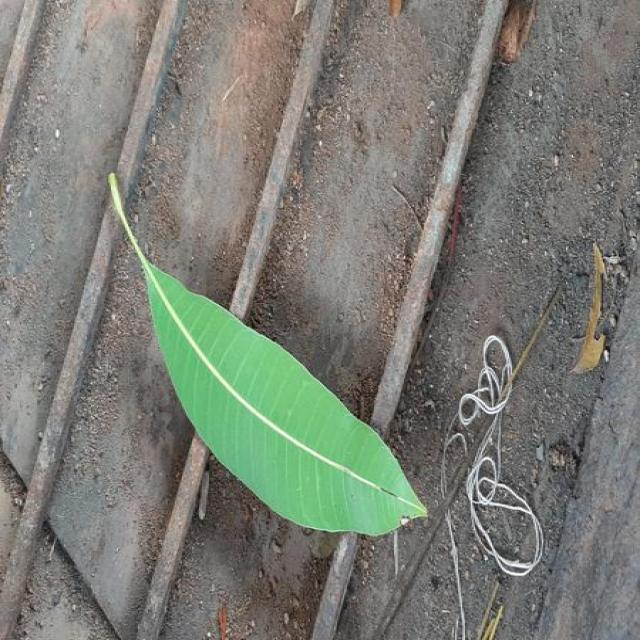mango: (111, 175, 427, 534)
